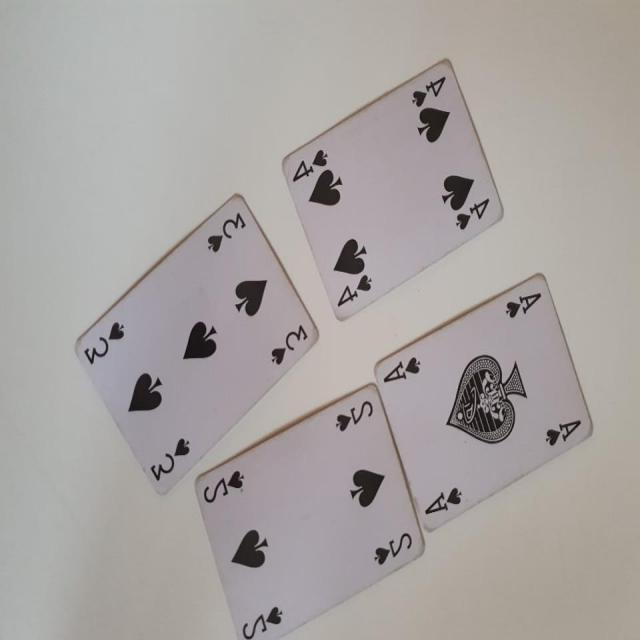2 of spades: (195, 385, 424, 640)
3 of spades: (73, 189, 323, 496)
4 of spades: (275, 54, 509, 327)
ace of spades: (374, 266, 597, 534)
